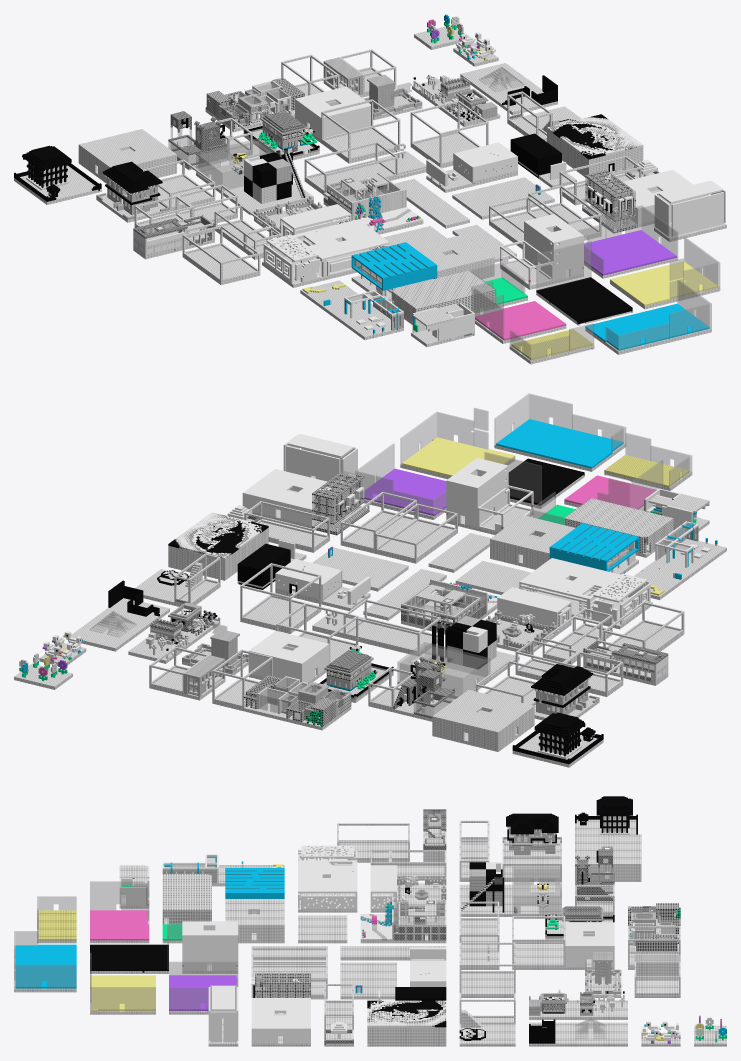
File: WestEnd-v1.glb
3 renders of one model, top to bottom at view 1: azimuth 30°, elevation 25°; view 2: azimuth 150°, elevation 25°; view 3: azimuth 270°, elevation 25°, orthographic. The views are drawn at different scales.
Parts seen in each view (by area): view 1: solid-voxels_44.024, solid-voxels_15.026, solid-voxels_68.011, solid-voxels_61.017, solid-voxels_42.024, solid-voxels_27.024, solid-voxels_66.011, solid-voxels_29.024, solid-voxels_14.026, solid-voxels.026, solid-voxels_20.024, solid-voxels_65.012 (+79 smaller); view 2: solid-voxels_61.017, solid-voxels_14.026, solid-voxels_15.026, solid-voxels_66.011, solid-voxels_68.011, solid-voxels_65.012, solid-voxels_27.024, solid-voxels_81.008, solid-voxels_29.024, solid-voxels_42.024, solid-voxels_18.025, solid-voxels_80.008 (+77 smaller); view 3: solid-voxels_29.024, solid-voxels_66.011, solid-voxels_81.008, solid-voxels_61.017, solid-voxels_15.026, solid-voxels_42.024, solid-voxels_18.025, solid-voxels.026, solid-voxels_20.024, solid-voxels_32.024, solid-voxels_14.026, solid-voxels_65.012 (+76 smaller).
Part boxes in pixels (x1,y1,x2,y2): solid-voxels_44.024: [654, 181, 726, 241]; solid-voxels_15.026: [223, 148, 313, 214]; solid-voxels_68.011: [351, 242, 437, 301]; solid-voxels_61.017: [78, 129, 176, 183]; solid-voxels_42.024: [391, 270, 494, 324]; solid-voxels_27.024: [14, 145, 101, 204]; solid-voxels_66.011: [524, 214, 583, 283]; solid-voxels_29.024: [292, 219, 389, 280]; solid-voxels_14.026: [205, 77, 304, 132]; solid-voxels.026: [562, 125, 643, 178]; solid-voxels_20.024: [96, 161, 169, 222]; solid-voxels_65.012: [295, 86, 370, 142]; solid-voxels_61.017: [432, 689, 534, 751]; solid-voxels_14.026: [243, 675, 351, 730]; solid-voxels_15.026: [427, 616, 519, 680]; solid-voxels_66.011: [446, 458, 508, 530]; solid-voxels_68.011: [549, 523, 638, 574]; solid-voxels_65.012: [248, 631, 329, 683]; solid-voxels_27.024: [512, 712, 603, 767]; solid-voxels_81.008: [242, 469, 332, 528]; solid-voxels_29.024: [519, 558, 620, 618]; solid-voxels_42.024: [564, 498, 673, 557]; solid-voxels_18.025: [490, 515, 574, 569]; solid-voxels_80.008: [641, 521, 726, 583]; solid-voxels_29.024: [298, 861, 357, 912]; solid-voxels_66.011: [182, 921, 238, 973]; solid-voxels_81.008: [251, 998, 310, 1046]; solid-voxels_61.017: [575, 834, 641, 881]; solid-voxels_15.026: [459, 862, 512, 916]; solid-voxels_42.024: [162, 874, 211, 924]; solid-voxels_18.025: [225, 899, 284, 943]; solid-voxels.026: [367, 1000, 416, 1046]; solid-voxels_20.024: [502, 813, 561, 856]; solid-voxels_32.024: [393, 900, 446, 943]; solid-voxels_14.026: [628, 903, 680, 951]; solid-voxels_65.012: [565, 922, 614, 969].
Bounding box in the file's own units: 161 × 13 × 216.
Materials: 2 (1 with a texture image).
